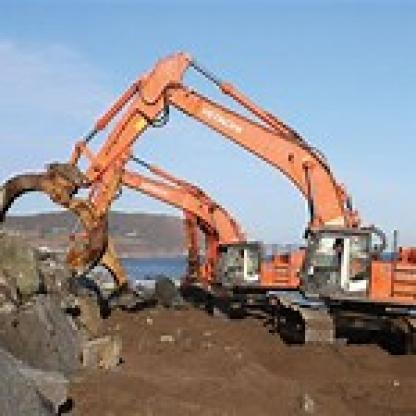excavator: (3, 19, 413, 380)
